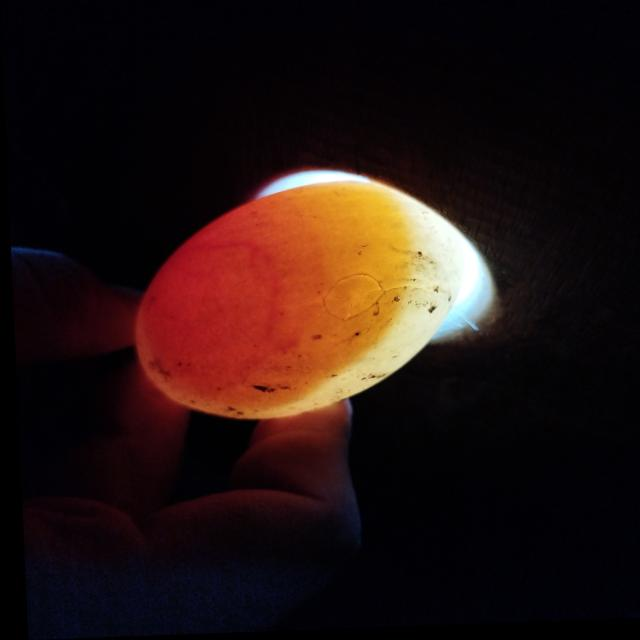Rachadura: (317, 276, 382, 324)
